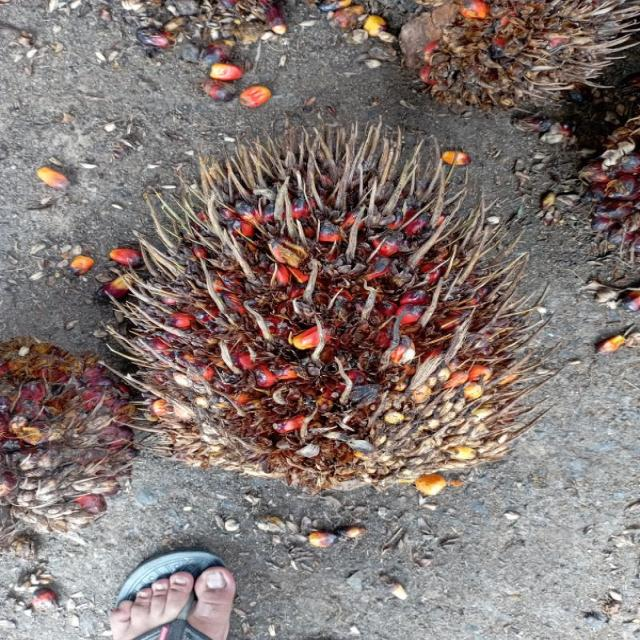fraksi 4: (86, 94, 588, 537)
